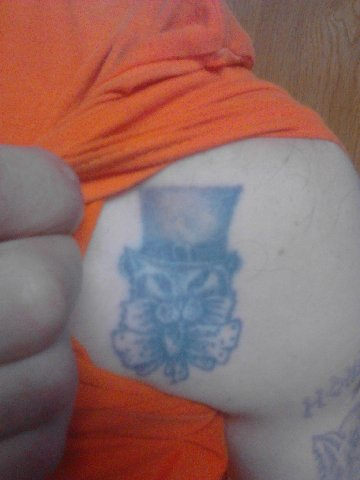tatu8_kot: (112, 174, 250, 383)
